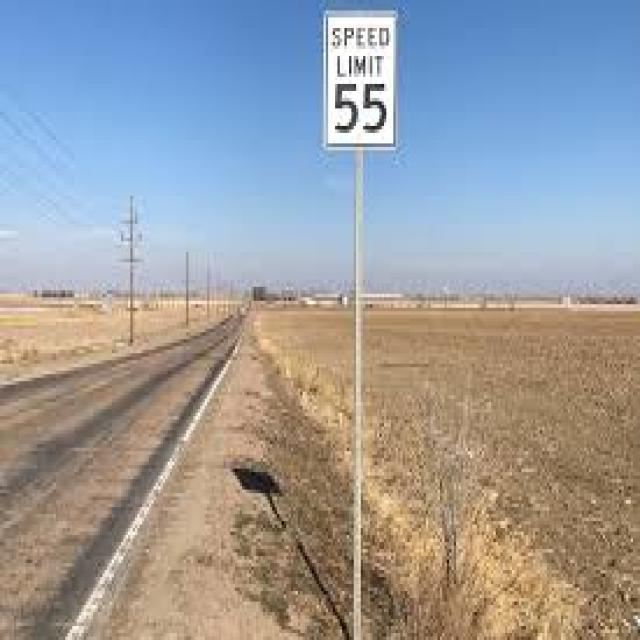speedLimit55: (322, 12, 397, 149)
